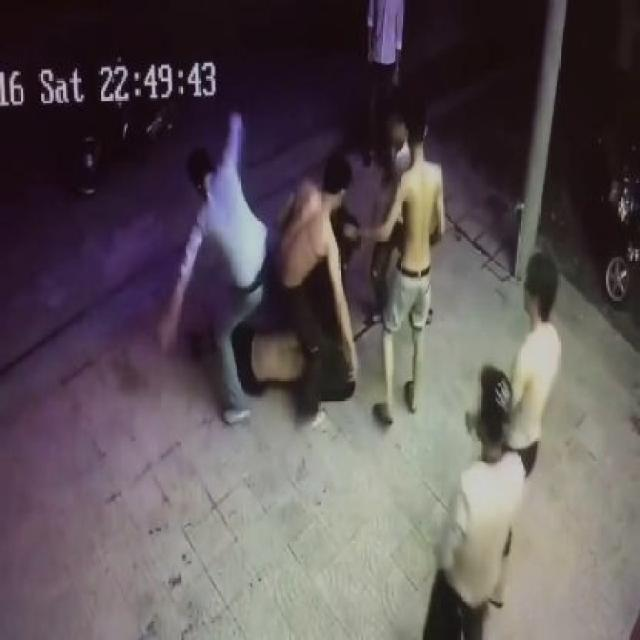fight: (132, 73, 402, 444)
non-fight: (382, 372, 560, 638), (340, 103, 446, 429), (485, 243, 566, 610)
